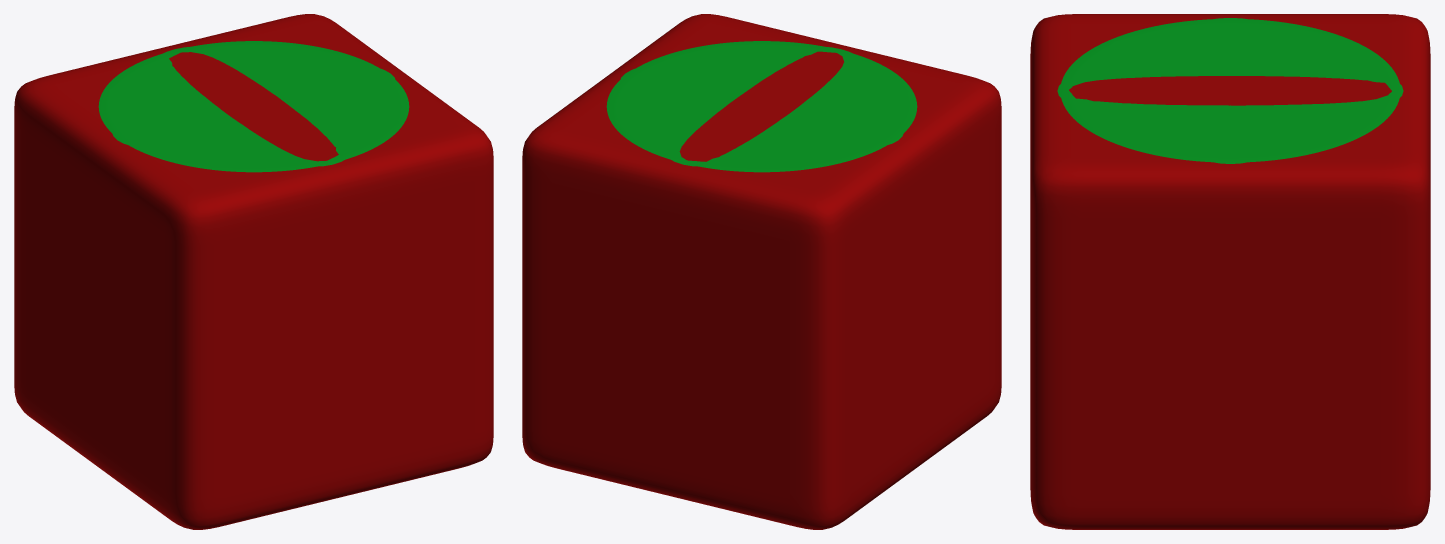
3 renders of one model, left to right at view 1: azimuth 30°, elevation 25°; view 2: azimuth 150°, elevation 25°; view 3: azimuth 270°, elevation 25°, orthographic. The views are drawn at different scales.
Visible parts, largest first — view 1: box, cylinder; view 2: box, cylinder; view 3: box, cylinder.
Boxes of the visible parts, x1,y1,x2,y2 form: box: [14, 14, 493, 529]; cylinder: [98, 41, 409, 172]; box: [522, 14, 1001, 529]; cylinder: [606, 41, 917, 172]; box: [1030, 14, 1430, 529]; cylinder: [1057, 18, 1403, 163].
Size of the model in its own units: 716 by 716 by 716.
